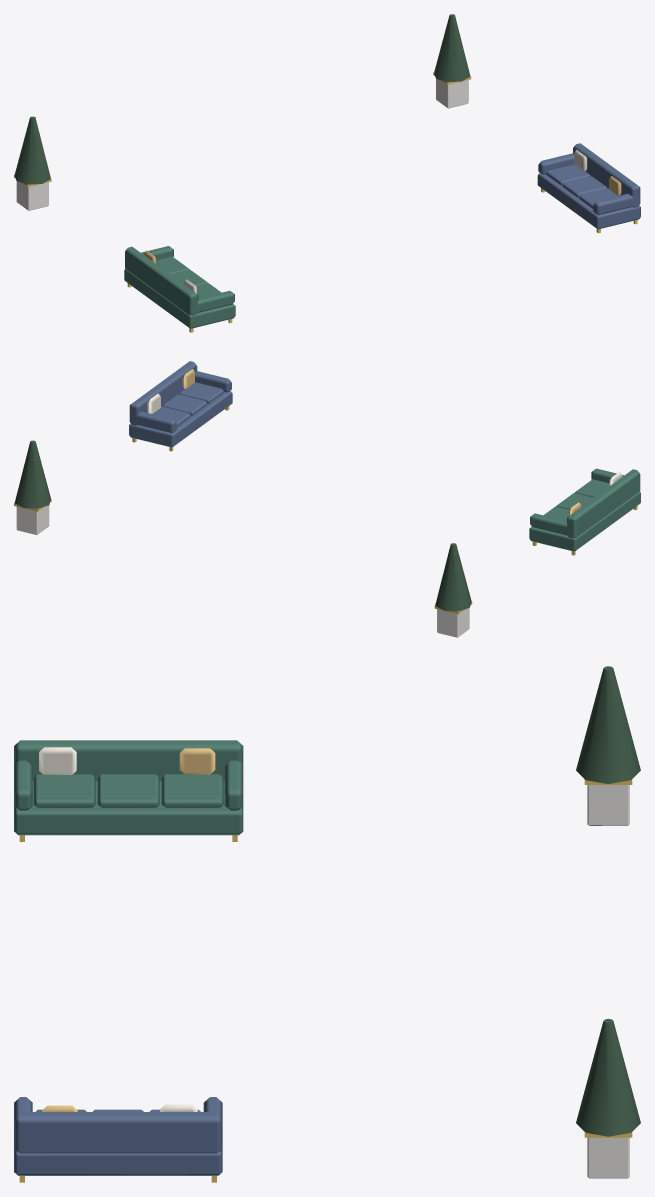
Rendered from einrichtung_lounge_buehne.glb.
3 renders of one model, top to bottom at view 1: azimuth 30°, elevation 25°; view 2: azimuth 150°, elevation 25°; view 3: azimuth 270°, elevation 25°, orthographic. The views are drawn at different scales.
Visible parts, largest first — view 1: einrichtung_lounge_buehne; view 2: einrichtung_lounge_buehne; view 3: einrichtung_lounge_buehne.
Part boxes in pixels (x1,y1,x2,y2): einrichtung_lounge_buehne: (14, 14, 640, 332); einrichtung_lounge_buehne: (14, 361, 640, 637); einrichtung_lounge_buehne: (14, 666, 640, 1182).
Bounding box in the file's own units: 8.64 × 1.58 × 6.01.
